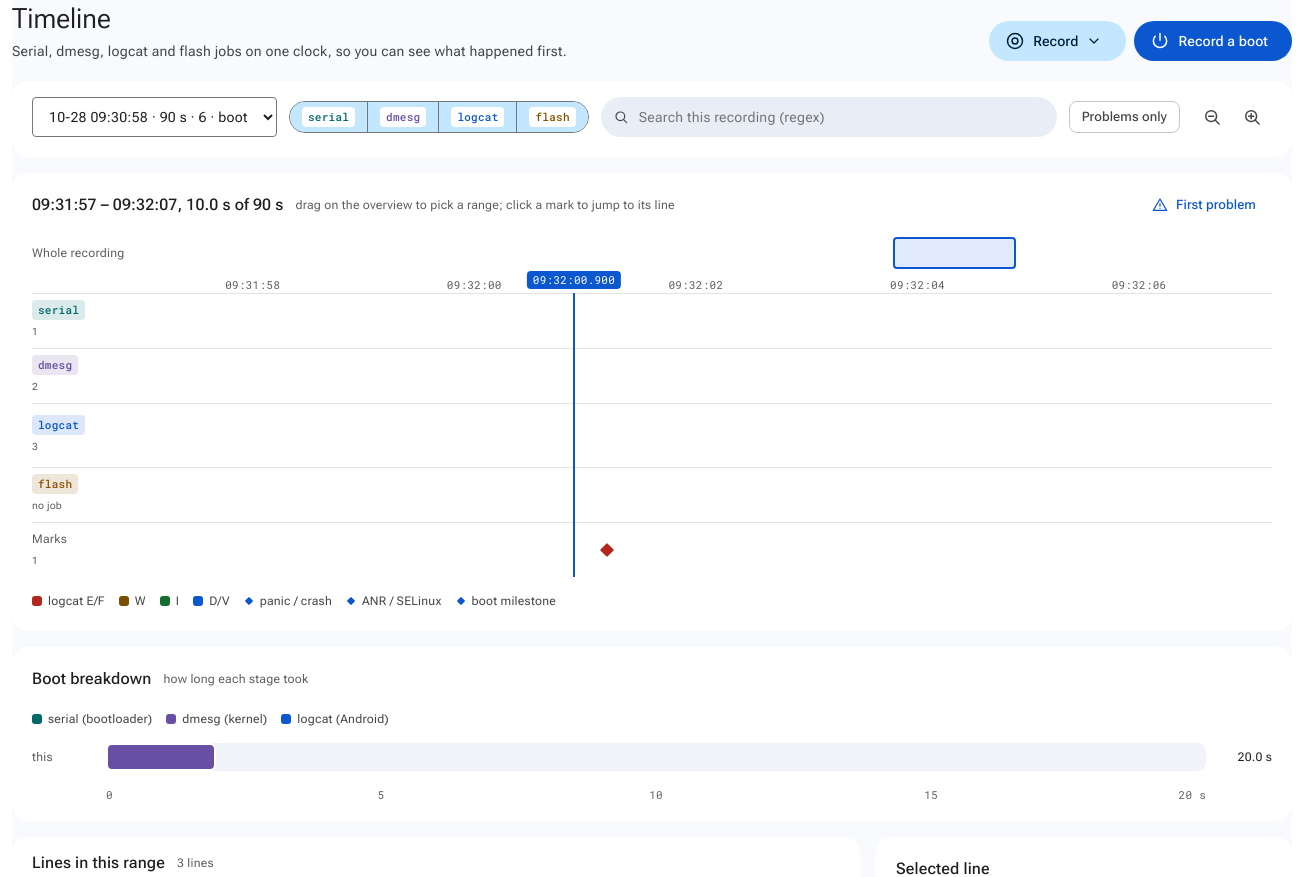
Test: TimelinePage › draws the lanes, lists lines, and a marker click selects its line
Expected: the heading "Boot breakdown" is shown, [32, 667, 151, 691]
Expected: the element with test id "overview" is shown, [164, 235, 1272, 271]
Click the button named "panic": click(607, 550) [597, 540, 617, 560]
(page scrolled)
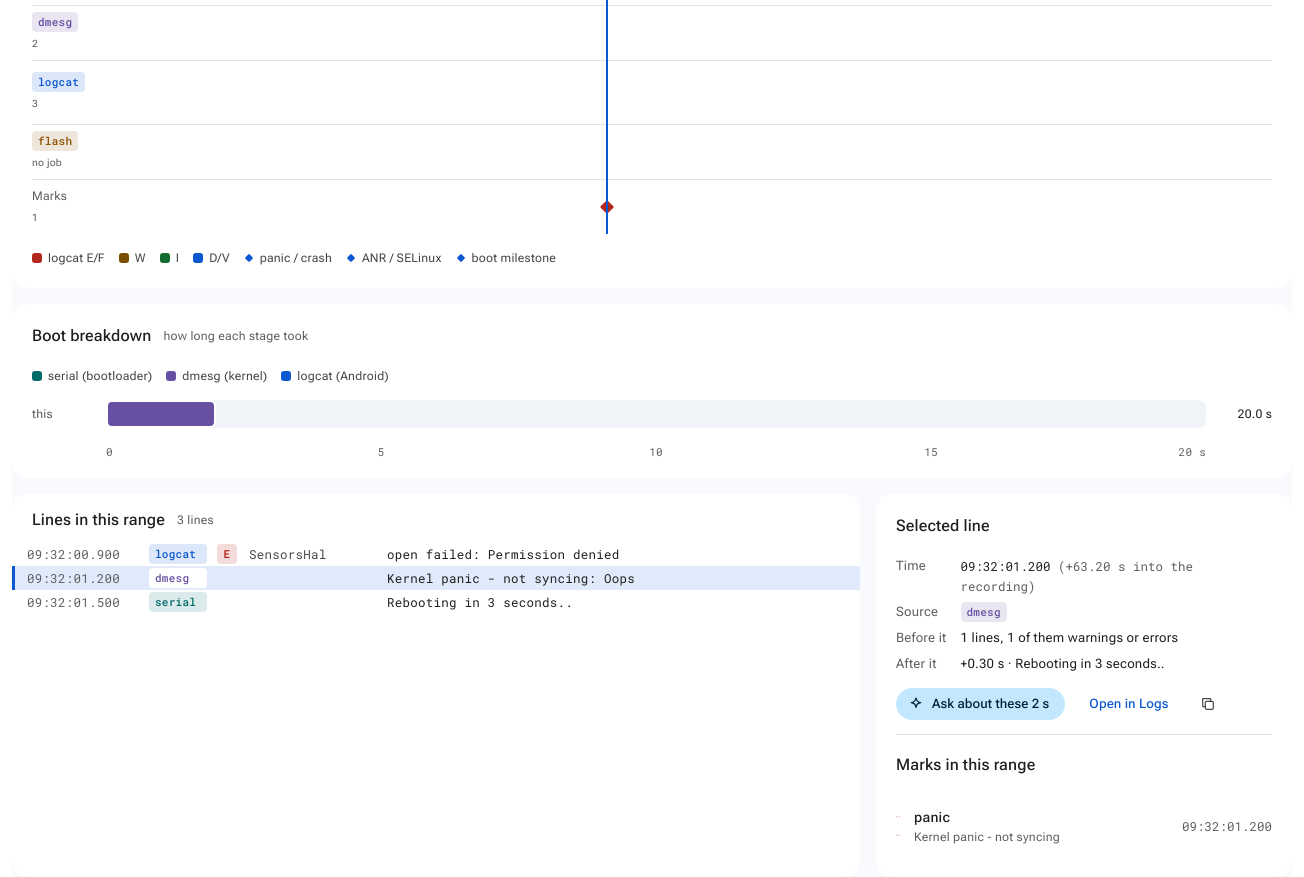
Expected: the button with class "log" shows "Kernel panic", [12, 566, 860, 590]
Result: the text "(+63.20 s into the recording)" is shown at [960, 558, 1193, 594]
